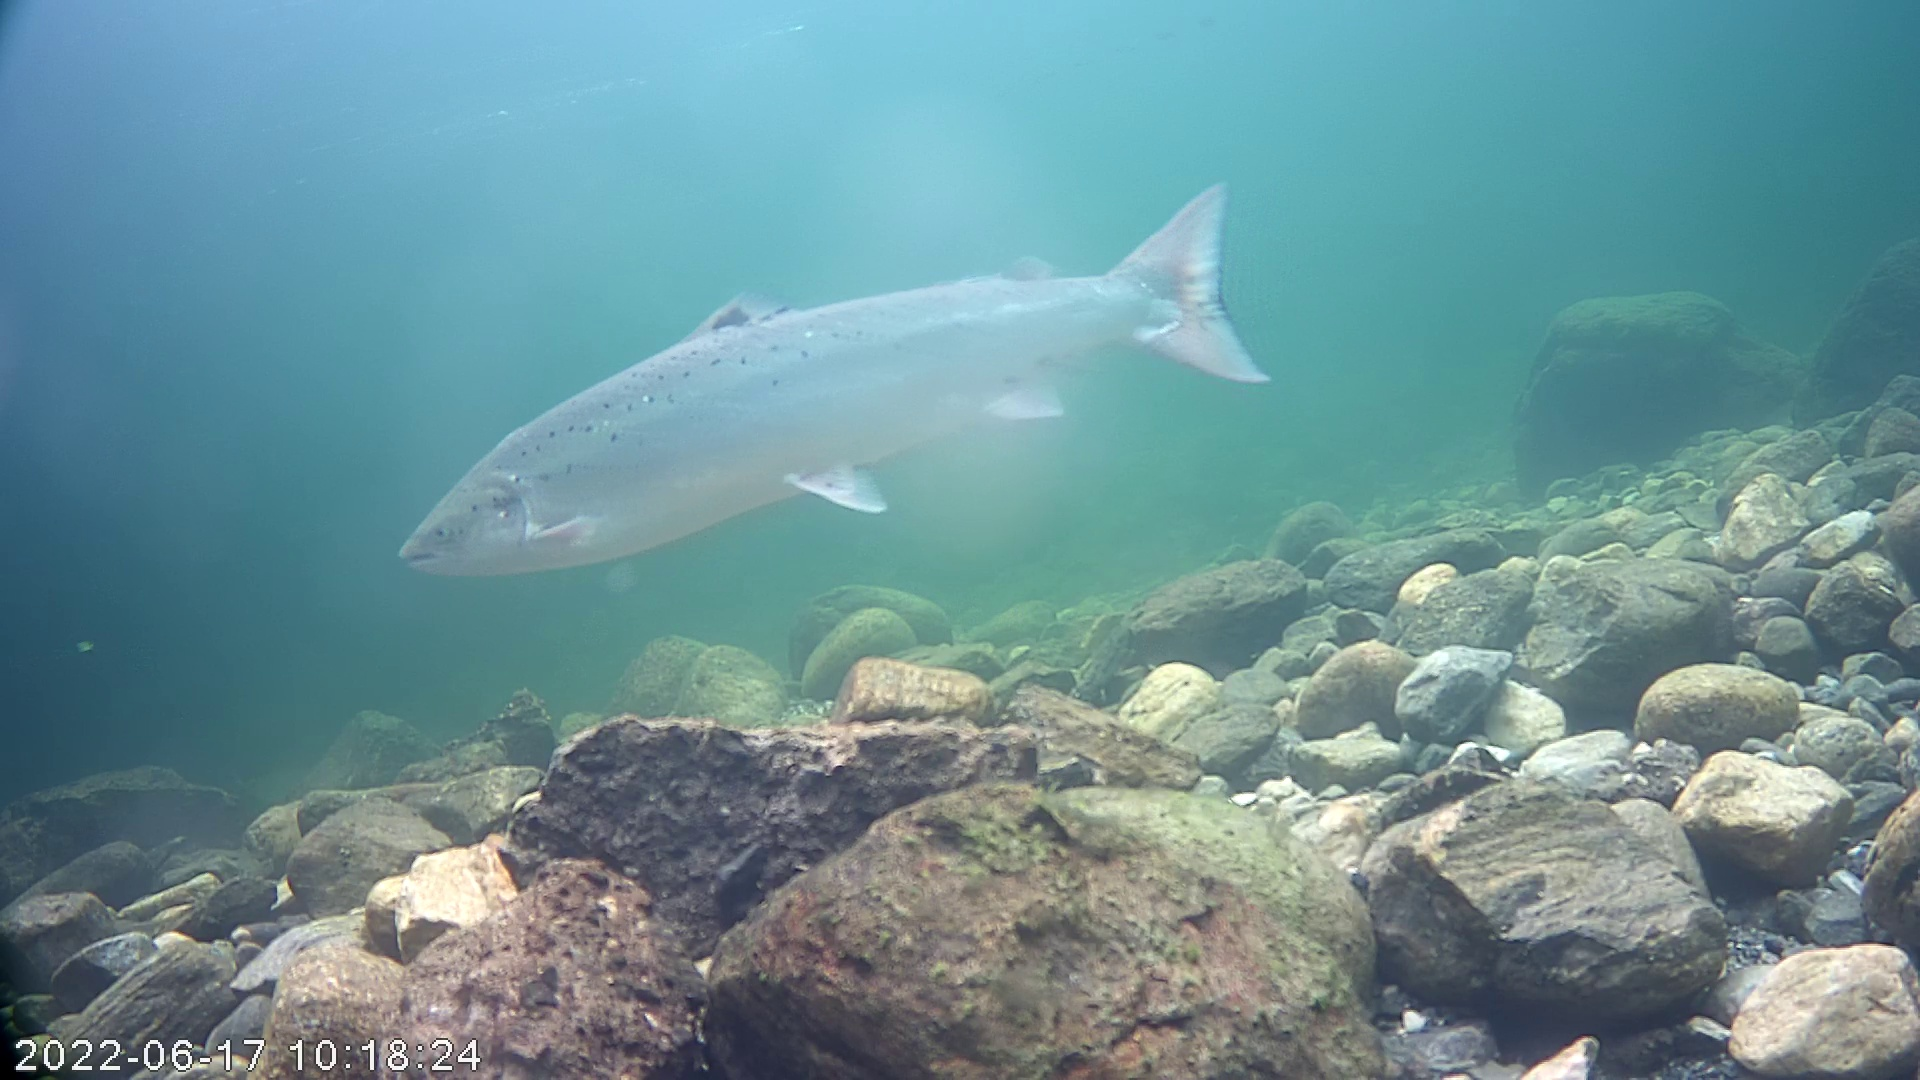salmon: (392, 177, 1274, 585)
